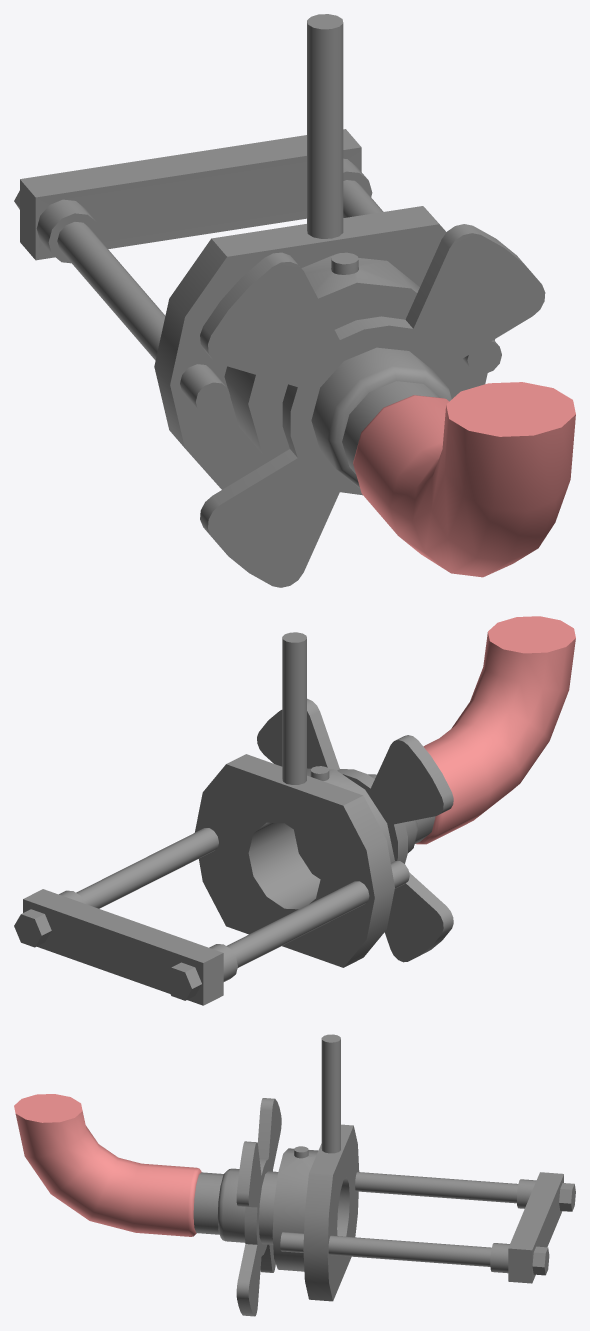
Rendered from SM_SUG_All_Right_04_2_2.gltf.
The picture shows the model from 3 angles, top to bottom: view 1: azimuth 30°, elevation 25°; view 2: azimuth 150°, elevation 25°; view 3: azimuth 270°, elevation 25°; orthographic projection. The views are drawn at different scales.
Visible parts, largest first — view 1: SM_SUG_All_Right_04_2_2; view 2: SM_SUG_All_Right_04_2_2; view 3: SM_SUG_All_Right_04_2_2.
Boxes of the visible parts, left/top/right/bottom form: SM_SUG_All_Right_04_2_2: left=14, top=14, right=575, bottom=587; SM_SUG_All_Right_04_2_2: left=14, top=616, right=575, bottom=1005; SM_SUG_All_Right_04_2_2: left=14, top=1034, right=575, bottom=1316.
Bounding box in the file's own units: 0.1481 × 0.1794 × 0.3514.
